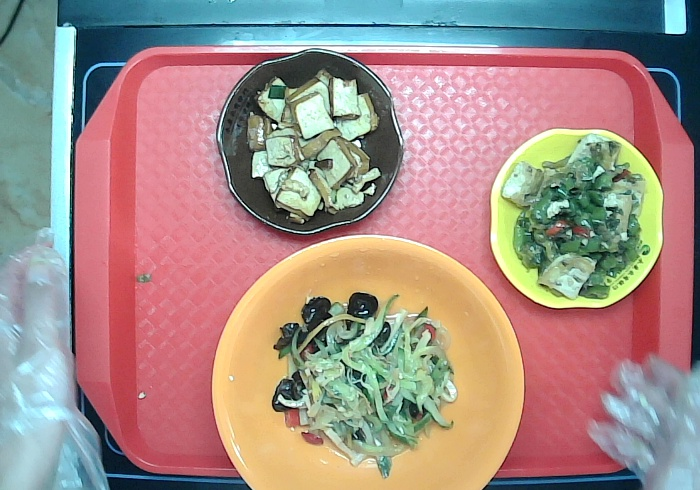YKMZ-Huang_Se_Ao_Bian_Wan: (488, 125, 666, 313)
YKMZ-Ju_Se_Tang_Wan: (210, 231, 528, 490)
YKMZ-Ka_Fei_Ao_Bian_Wan: (216, 45, 404, 236)
